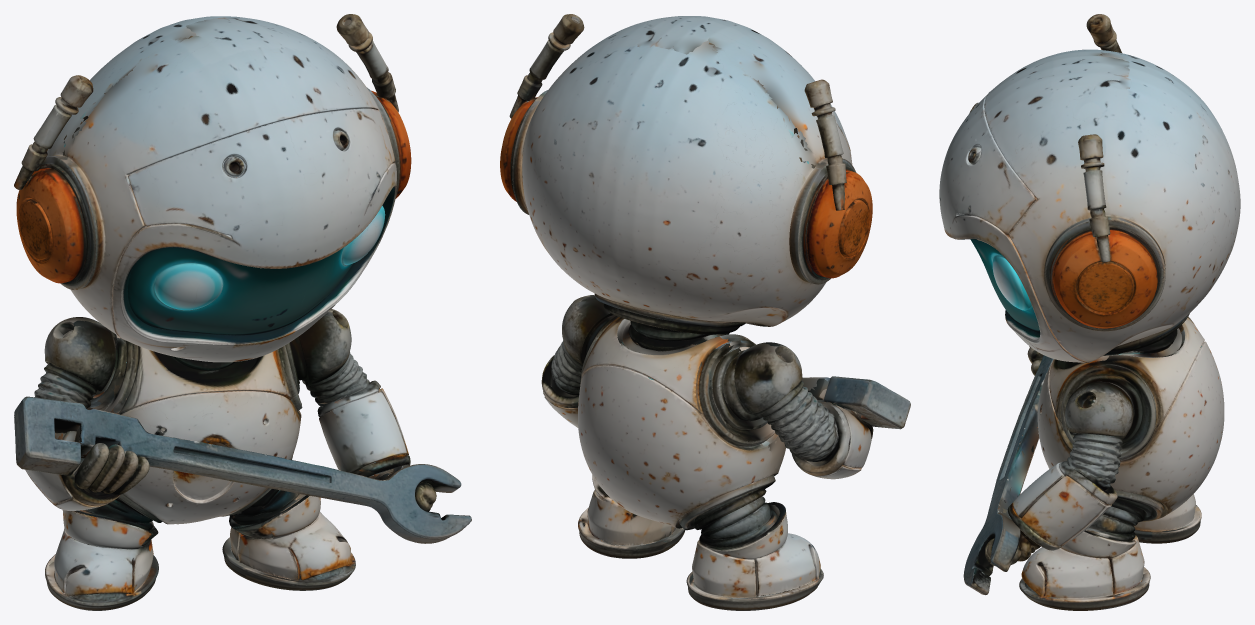
The model's file is astronot3d.glb.
The picture shows the model from 3 angles, left to right: view 1: azimuth 30°, elevation 25°; view 2: azimuth 150°, elevation 25°; view 3: azimuth 270°, elevation 25°; orthographic projection. The views are drawn at different scales.
Parts seen in each view (by area): view 1: texture_pbr_v128; view 2: texture_pbr_v128; view 3: texture_pbr_v128.
Part boxes in pixels (x1,y1,x2,y2): texture_pbr_v128: (14,14,471,610); texture_pbr_v128: (500,14,910,610); texture_pbr_v128: (939,14,1240,610).
Size of the model in its own units: 0.7836 by 1.03 by 0.5627.
Materials: 1 (1 with a texture image).
